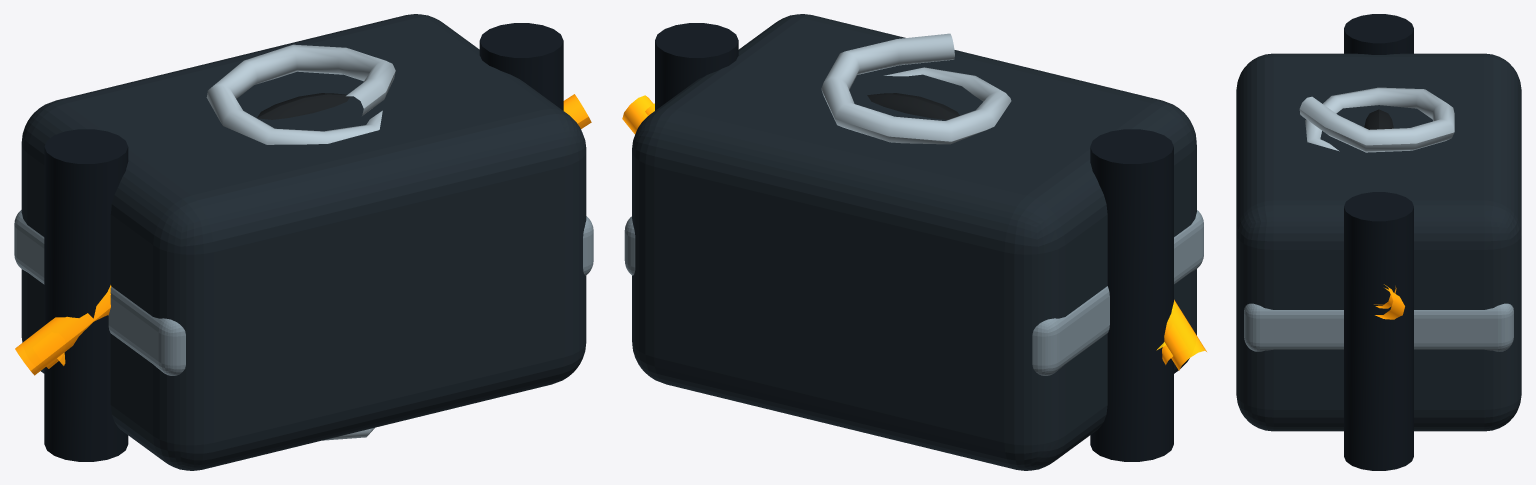
Rendered from remaining_systems_19.glb.
3 views of the same model, side by side, from view 1: azimuth 30°, elevation 25°; view 2: azimuth 150°, elevation 25°; view 3: azimuth 270°, elevation 25° (orthographic). The views are drawn at different scales.
Parts seen in each view (by area): view 1: asset_mesh__remaining_systems_1583__reference_body, asset_mesh__remaining_systems_1609__left_tank, asset_mesh__remaining_systems_1650__coil_spring, asset_mesh__remaining_systems_1609__heat_exchanger_core, asset_mesh__remaining_systems_1609__right_tank, asset_mesh__remaining_systems_1645__fluid_path, asset_mesh__remaining_systems_1598__service_element; view 2: asset_mesh__remaining_systems_1583__reference_body, asset_mesh__remaining_systems_1609__left_tank, asset_mesh__remaining_systems_1650__coil_spring, asset_mesh__remaining_systems_1609__heat_exchanger_core, asset_mesh__remaining_systems_1609__right_tank, asset_mesh__remaining_systems_1645__fluid_path, asset_mesh__remaining_systems_1598__service_element; view 3: asset_mesh__remaining_systems_1583__reference_body, asset_mesh__remaining_systems_1609__right_tank, asset_mesh__remaining_systems_1609__heat_exchanger_core, asset_mesh__remaining_systems_1650__coil_spring, asset_mesh__remaining_systems_1609__left_tank, asset_mesh__remaining_systems_1598__service_element, asset_mesh__remaining_systems_1645__fluid_path.
Part boxes in pixels (x1,y1,x2,y2): asset_mesh__remaining_systems_1583__reference_body: [21, 14, 586, 470]; asset_mesh__remaining_systems_1609__left_tank: [44, 129, 128, 461]; asset_mesh__remaining_systems_1650__coil_spring: [206, 44, 395, 440]; asset_mesh__remaining_systems_1609__heat_exchanger_core: [14, 210, 593, 375]; asset_mesh__remaining_systems_1609__right_tank: [479, 23, 563, 110]; asset_mesh__remaining_systems_1645__fluid_path: [15, 94, 591, 375]; asset_mesh__remaining_systems_1598__service_element: [257, 93, 350, 119]; asset_mesh__remaining_systems_1583__reference_body: [632, 14, 1196, 470]; asset_mesh__remaining_systems_1609__left_tank: [1090, 129, 1173, 461]; asset_mesh__remaining_systems_1650__coil_spring: [821, 33, 1011, 144]; asset_mesh__remaining_systems_1609__heat_exchanger_core: [624, 210, 1203, 375]; asset_mesh__remaining_systems_1609__right_tank: [655, 23, 738, 110]; asset_mesh__remaining_systems_1645__fluid_path: [622, 95, 1206, 370]; asset_mesh__remaining_systems_1598__service_element: [867, 93, 959, 119]; asset_mesh__remaining_systems_1583__reference_body: [1236, 53, 1521, 431]; asset_mesh__remaining_systems_1609__right_tank: [1344, 192, 1413, 470]; asset_mesh__remaining_systems_1609__heat_exchanger_core: [1244, 303, 1513, 351]; asset_mesh__remaining_systems_1650__coil_spring: [1299, 87, 1454, 152]; asset_mesh__remaining_systems_1609__left_tank: [1344, 14, 1413, 54]; asset_mesh__remaining_systems_1598__service_element: [1364, 109, 1393, 129]; asset_mesh__remaining_systems_1645__fluid_path: [1375, 288, 1404, 319].
Bounding box in the file's own units: 1.64 × 0.9586 × 0.84.
